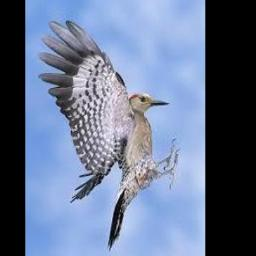Woodpecker: (38, 21, 180, 250)
